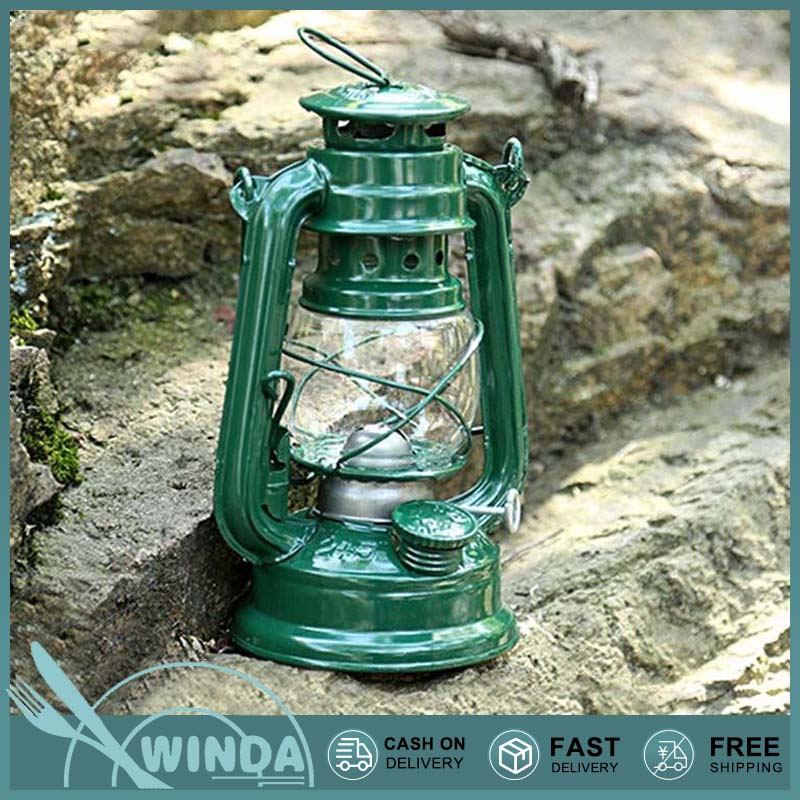Open-Flame-Hazard: (193, 15, 565, 683)
